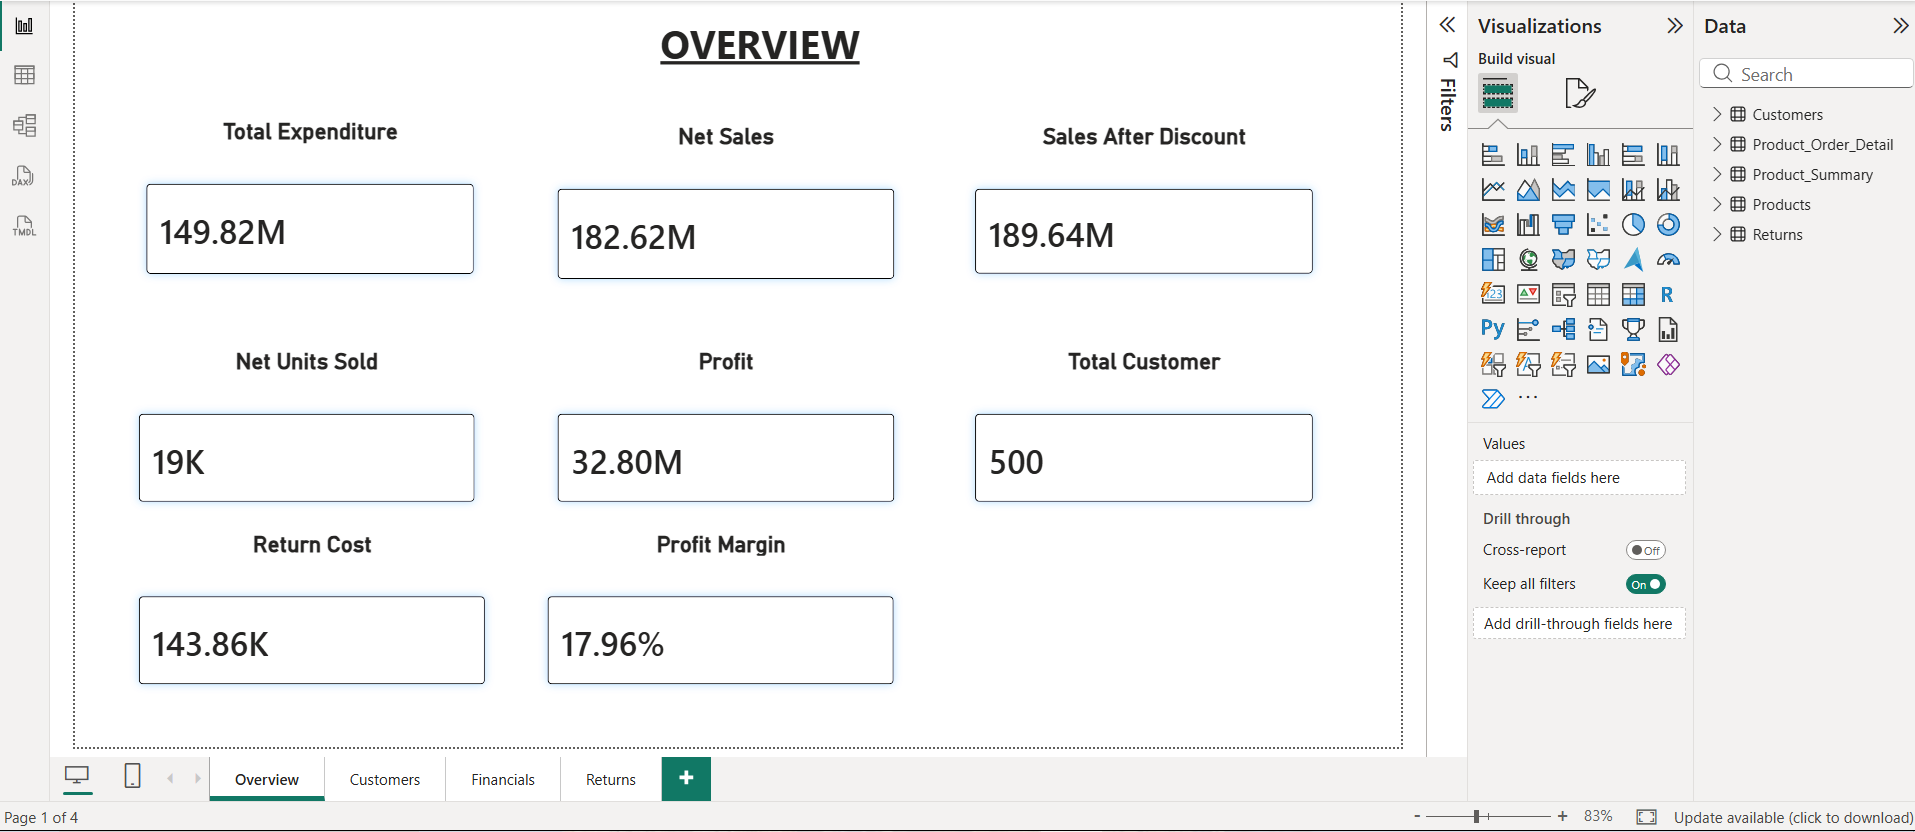

The page's visual inventory and layout, read from the dashboard file:
{"tool":"powerbi","page":{"name":"Overview","canvas":[1280,720],"ordinal":0},"visuals":[{"type":"cardVisual","title":"Total Expenditure","fields":{"Data":["Product_Summary.Total_Expenditure"]},"box":[41,113.4,372.8,178.6],"z":0},{"type":"cardVisual","title":"Net Sales","fields":{"Data":["Sum(Product_Order_Detail.Net_Sales)"]},"box":[437.9,118.2,381.2,178.6],"z":1000},{"type":"cardVisual","title":"Sales After Discount","fields":{"Data":["Sum(Product_Order_Detail.Total_Value)"]},"box":[840.9,118.2,382.4,173.7],"z":2000},{"type":"cardVisual","title":"Net Units Sold","fields":{"Data":["Sum(Product_Order_Detail.Quantity_Sold)"]},"box":[33.8,335.4,380,176.1],"z":3000},{"type":"cardVisual","title":"Profit","fields":{"Data":["Product_Summary.Profit"]},"box":[437.9,335.4,381.2,176.1],"z":4000},{"type":"cardVisual","title":"Total Customer","fields":{"Data":["Customers.Total_Customer"]},"box":[840.9,335.4,382.4,176.1],"z":5000},{"type":"textbox","box":[538.1,10.9,246.1,74.8],"z":6000},{"type":"cardVisual","title":"Return Cost","fields":{"Data":["Sum(Product_Order_Detail.Total_Return_Cost)"]},"box":[33.8,511.5,390.9,176.1],"z":7000},{"type":"cardVisual","title":"Profit Margin","fields":{"Data":["Product_Summary.Profit_Margin"]},"box":[428.3,511.5,390.9,176.1],"z":8000}]}

Visuals, with their boxes on the page's 1280x720 design canvas (x1, y1, x2, y2). These are canvas units, not pixel positions in the 1915x832 screenshot, which may show the page scaled, cropped or inside an application window:
"Total Expenditure" cardVisual: (x1=41, y1=113, x2=414, y2=292)
"Net Sales" cardVisual: (x1=438, y1=118, x2=819, y2=297)
"Sales After Discount" cardVisual: (x1=841, y1=118, x2=1223, y2=292)
"Net Units Sold" cardVisual: (x1=34, y1=335, x2=414, y2=512)
"Profit" cardVisual: (x1=438, y1=335, x2=819, y2=512)
"Total Customer" cardVisual: (x1=841, y1=335, x2=1223, y2=512)
textbox: (x1=538, y1=11, x2=784, y2=86)
"Return Cost" cardVisual: (x1=34, y1=512, x2=425, y2=688)
"Profit Margin" cardVisual: (x1=428, y1=512, x2=819, y2=688)
